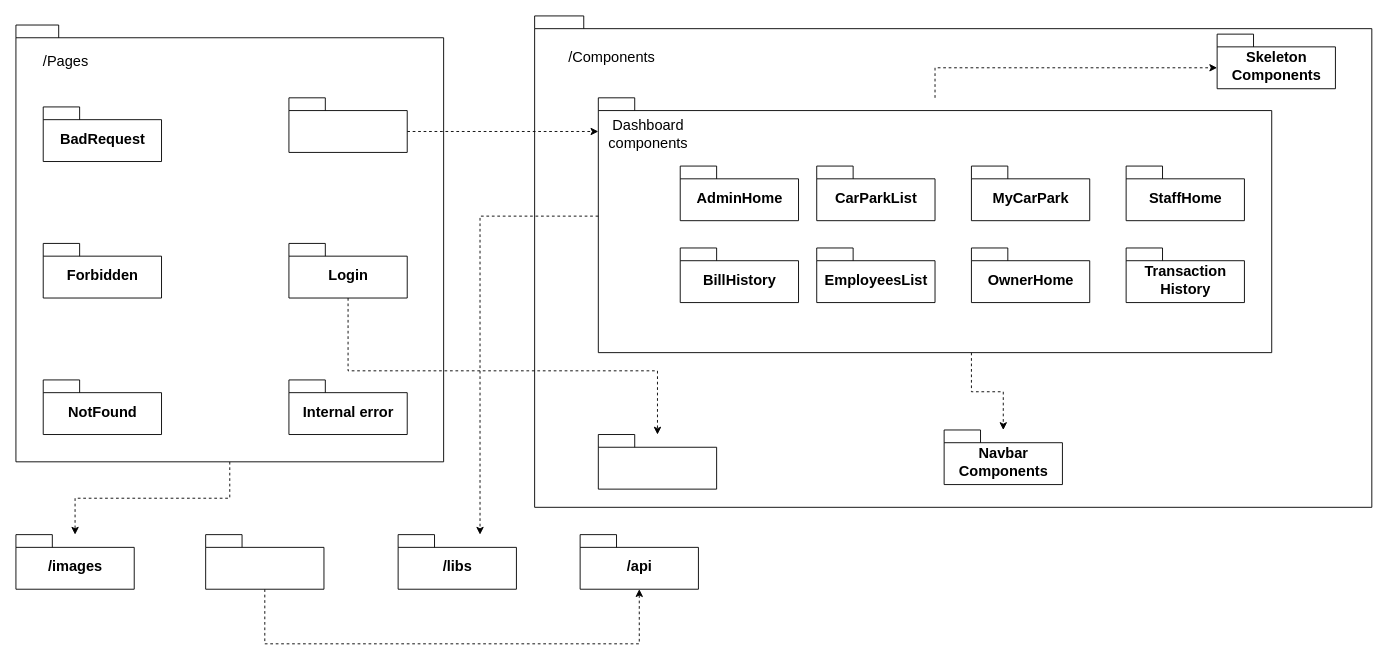
The diagram is 1388 pixels wide and 667 high, and some of its shapes have lost their labels. The shapes that lost their labels are listed below. From the top down, each one's box as (x1, y1, x2, y2) in pixels, then its label:
(288, 97, 407, 152): Dashboard
(597, 434, 717, 489): Login Components
(205, 534, 324, 589): /models
